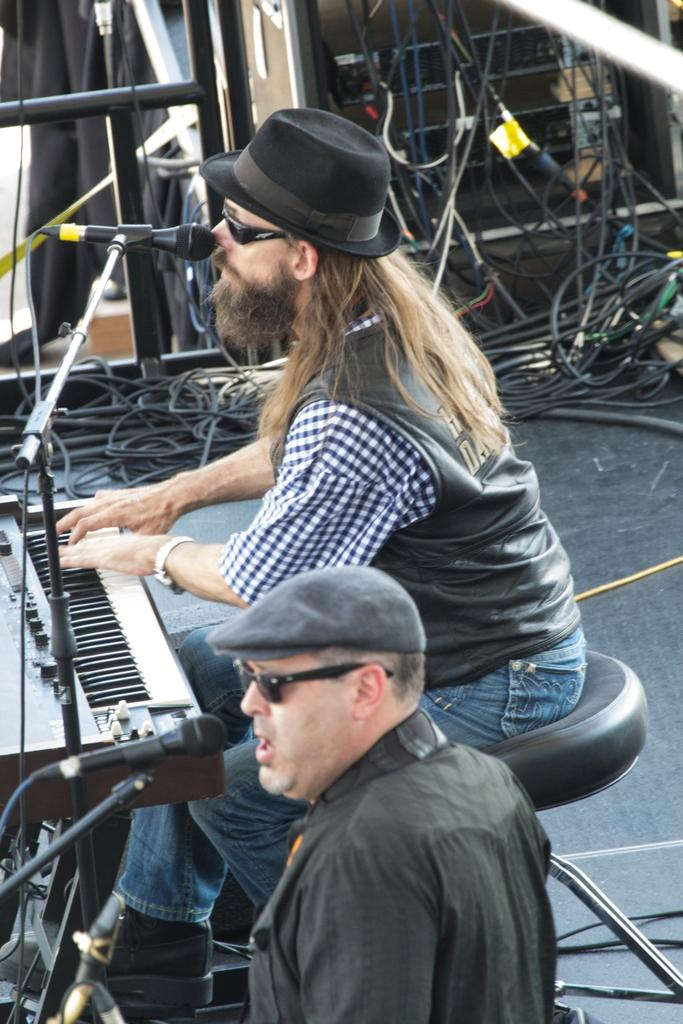Hat: (196, 98, 408, 261), (205, 566, 424, 660)
